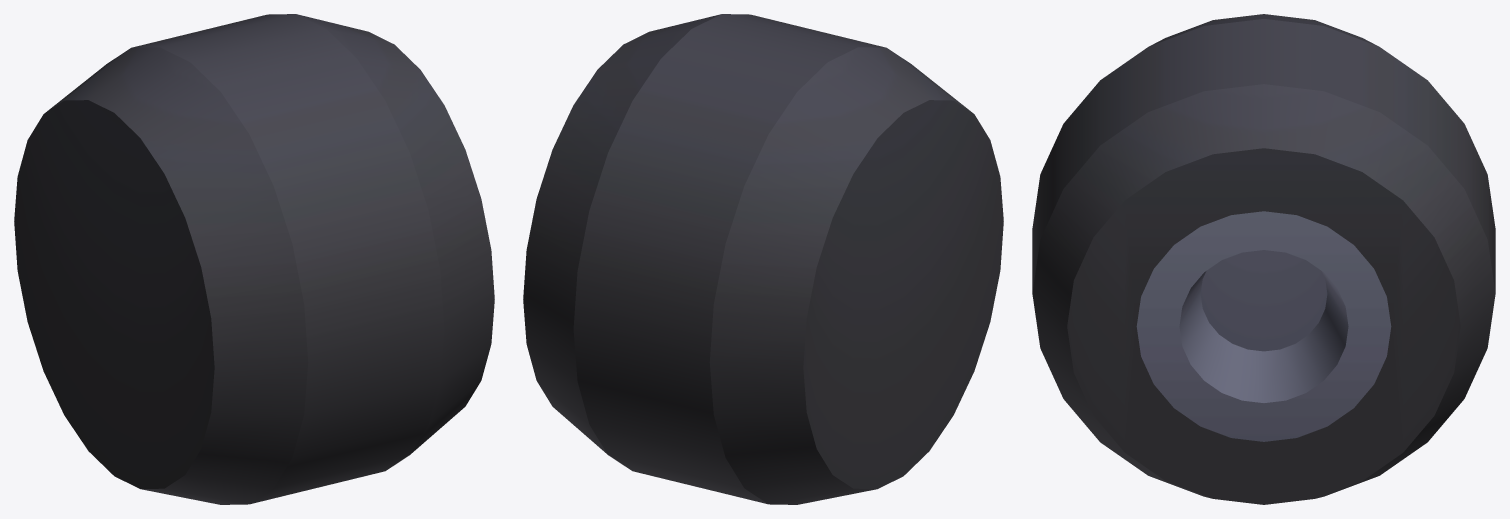
The model's file is wheel-tractor-dark-front.glb.
3 views of the same model, side by side, from view 1: azimuth 30°, elevation 25°; view 2: azimuth 150°, elevation 25°; view 3: azimuth 270°, elevation 25° (orthographic).
Visible parts, largest first — view 1: wheel-tractor-dark-front; view 2: wheel-tractor-dark-front; view 3: wheel-tractor-dark-front.
Boxes of the visible parts, x1=… form: wheel-tractor-dark-front: x1=14, y1=14, x2=494, y2=504; wheel-tractor-dark-front: x1=523, y1=14, x2=1003, y2=504; wheel-tractor-dark-front: x1=1032, y1=14, x2=1495, y2=504.
Size of the model in its own units: 0.3693 by 0.5386 by 0.5386.
Materials: 1 (1 with a texture image).
